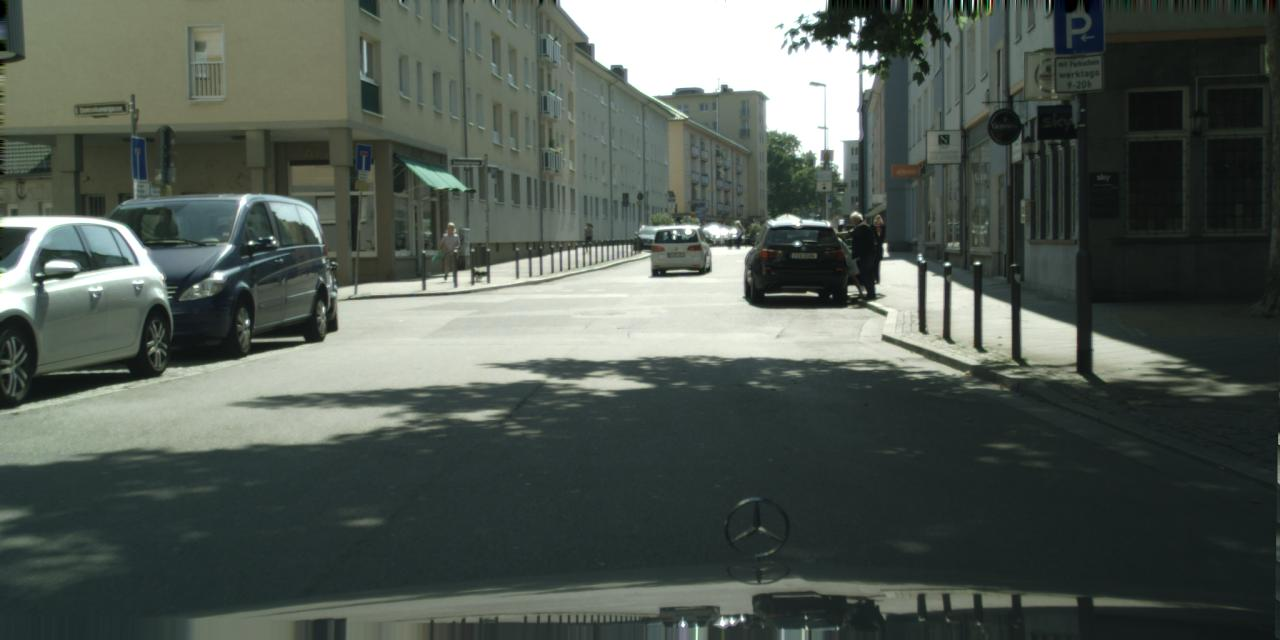ped: (845, 210, 881, 299), (826, 229, 851, 294), (440, 222, 460, 271), (872, 213, 883, 240), (732, 219, 742, 247), (583, 221, 593, 248)
